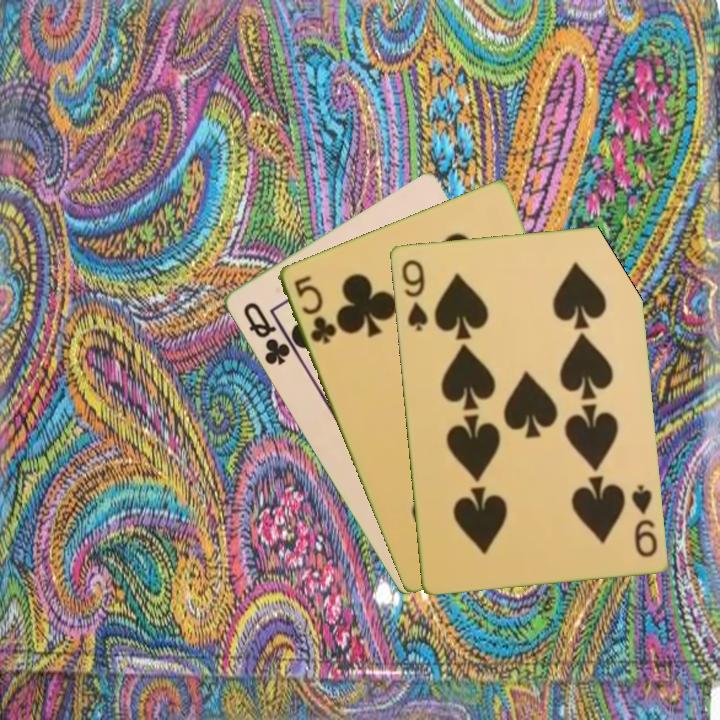5c: (290, 271, 339, 347)
9s: (627, 481, 660, 560), (398, 255, 430, 334)
Qc: (239, 298, 293, 369)
